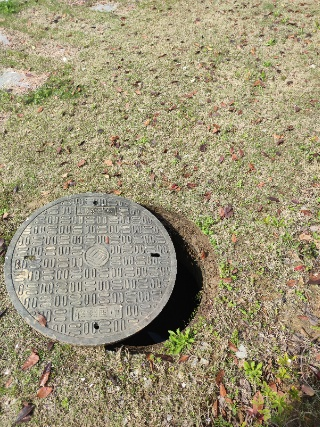uncovered: (4, 192, 219, 353)
